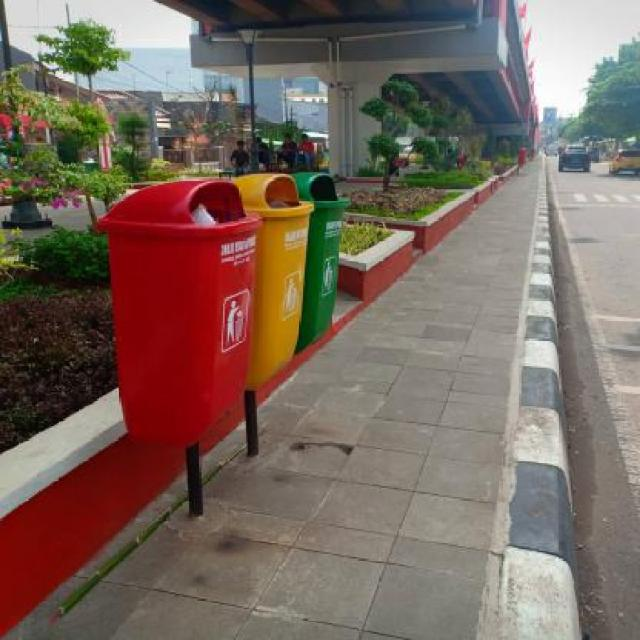garbage container: (83, 178, 268, 458), (250, 168, 312, 386), (294, 166, 352, 357)
